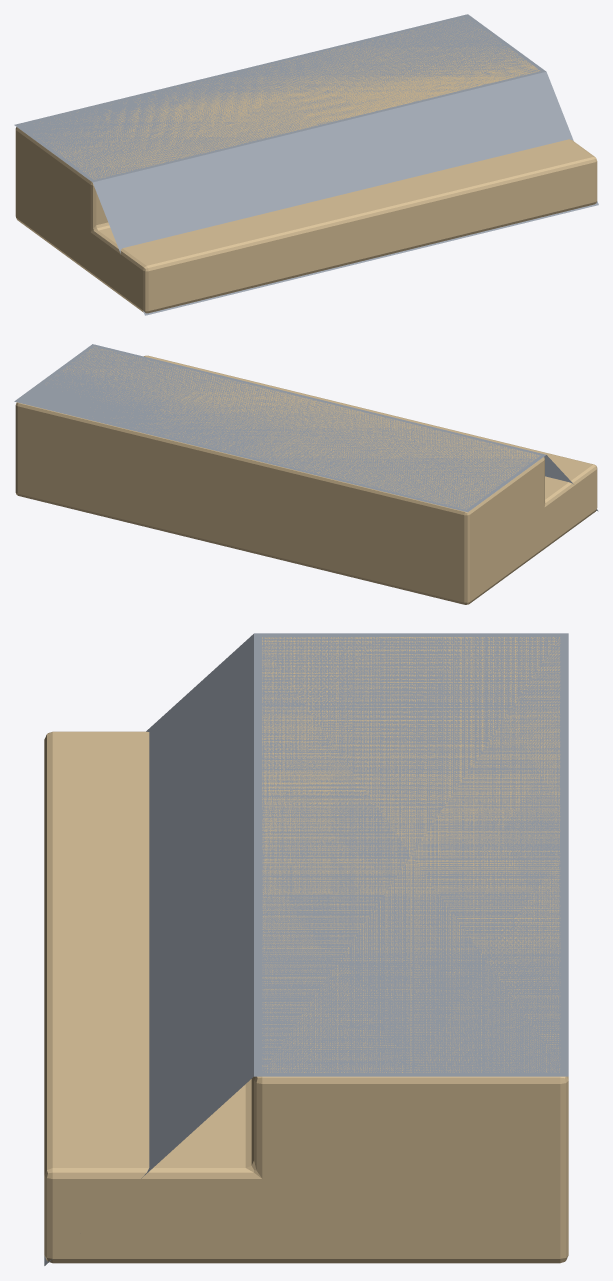
File: degraus_entrada_h30.glb
3 renders of one model, top to bottom at view 1: azimuth 30°, elevation 25°; view 2: azimuth 150°, elevation 25°; view 3: azimuth 270°, elevation 25°, orthographic. The views are drawn at different scales.
Parts seen in each view (by area): view 1: colisao_malha, degraus_entrada_h30; view 2: degraus_entrada_h30, colisao_malha; view 3: degraus_entrada_h30, colisao_malha.
Part boxes in pixels (box(x1,y1,x2,y2)): colisao_malha: box(14, 14, 598, 315); degraus_entrada_h30: box(15, 18, 597, 313); degraus_entrada_h30: box(15, 347, 597, 604); colisao_malha: box(14, 344, 598, 512); degraus_entrada_h30: box(44, 637, 568, 1263); colisao_malha: box(44, 633, 568, 1265).
Size of the model in its own units: 1.5 by 0.3 by 0.75.
1 material, 1 textured.
